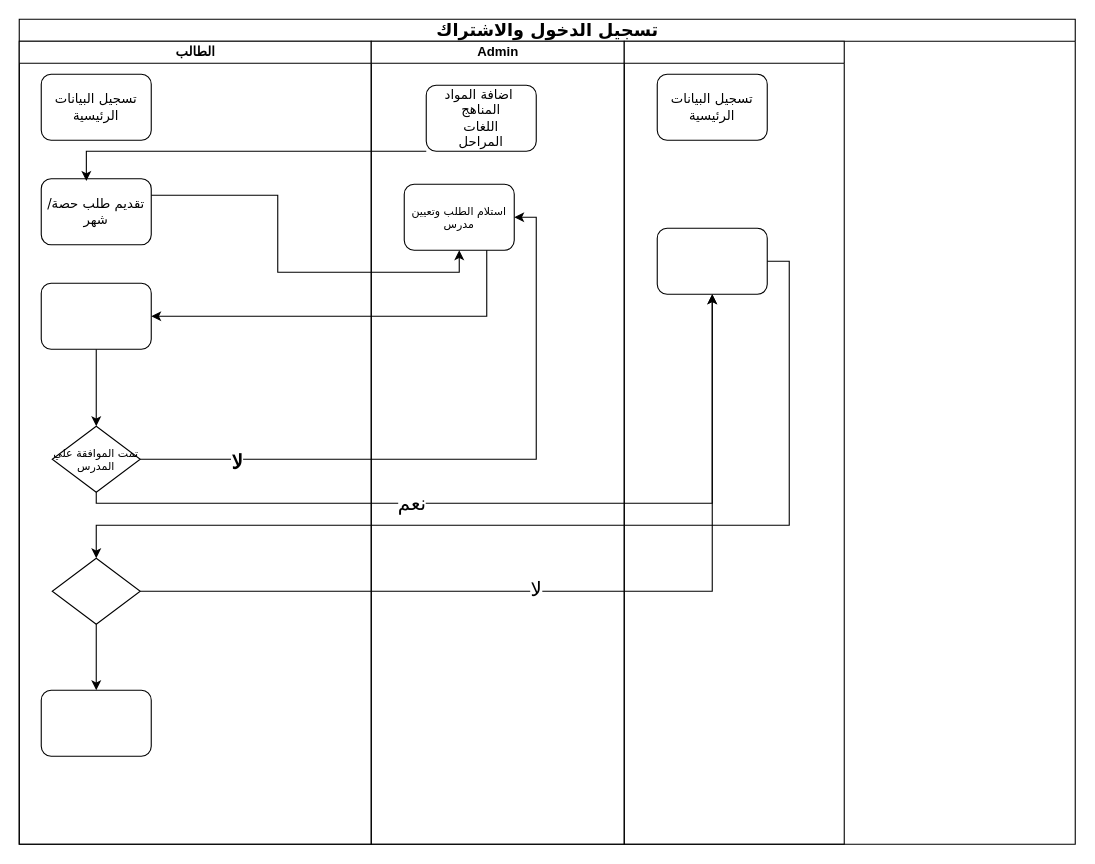
This 1095x864 diagram has some shape labels left out. The box of each missing label's shape, as (x1, y1, x2, y2) in pixels:
المدرس: (623, 40, 844, 844)
تحديد ميعادين لهذا الطالب لكل اسبوع: (656, 227, 767, 294)
تمت الموافقة علي الميعاد: (51, 557, 140, 624)
دفع ثمن الاشتراك: (40, 689, 151, 756)
مشاهدة الفيديو التجريبي: (40, 282, 151, 349)
